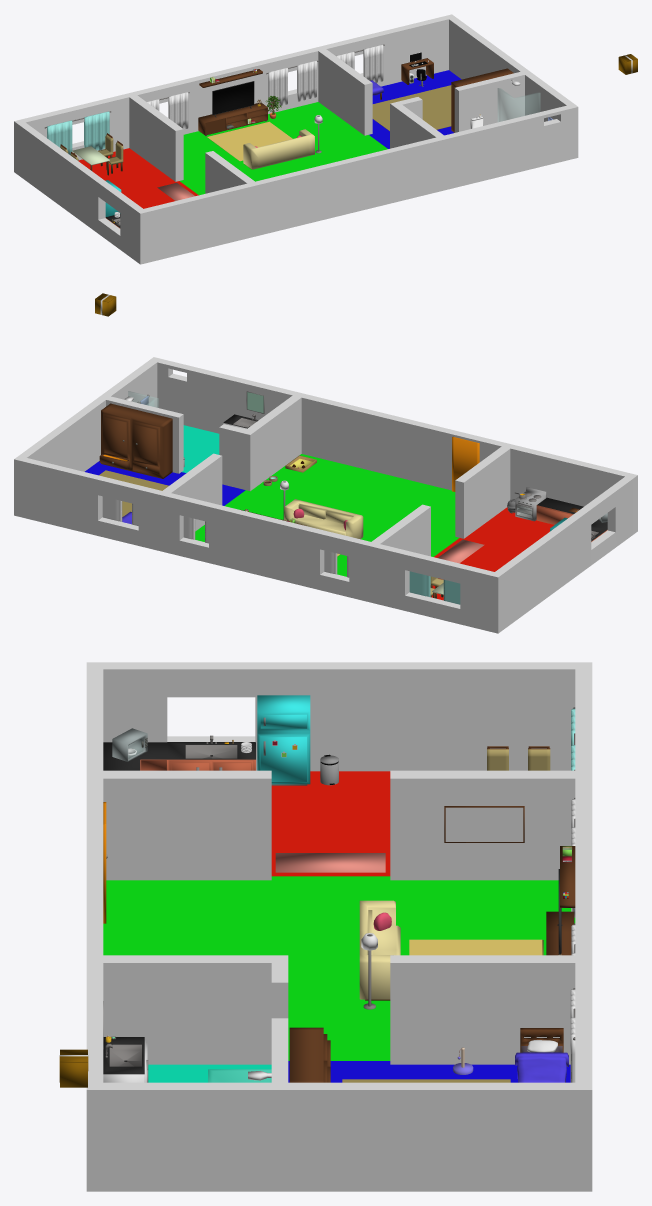
The model's file is House.fbx.
3 renders of one model, top to bottom at view 1: azimuth 30°, elevation 25°; view 2: azimuth 150°, elevation 25°; view 3: azimuth 270°, elevation 25°, orthographic. The views are drawn at different scales.
Visible parts, largest first — view 1: Wall8, Wall10, Ground, Wall7, Wall9, Wall6, Wall1, Wall4, Carpet, Sofa, Carpet TV Room, Curtain (+12 smaller); view 2: Wall10, Wall8, Ground, Wall7, Wall9, Closet, Wall3, Wall5, Wall6, Sofa, Wall1, Wall2 (+8 smaller); view 3: Wall9, Ground, Wall7, Wall5, Wall1, Wall3, Wall6, Wall10, Wall8, Refrigerator, Kitchen Sink, Sofa (+13 smaller).
Part boxes in pixels (left/top/right/bottom): Wall8: left=144, top=105, right=571, bottom=262; Wall10: left=14, top=14, right=455, bottom=174; Ground: left=78, top=70, right=461, bottom=208; Wall7: left=18, top=122, right=147, bottom=264; Wall9: left=449, top=17, right=578, bottom=159; Wall6: left=125, top=94, right=183, bottom=181; Wall1: left=318, top=49, right=372, bottom=135; Wall4: left=454, top=71, right=524, bottom=132; Carpet: left=372, top=85, right=451, bottom=131; Sofa: left=243, top=129, right=314, bottom=169; Carpet TV Room: left=207, top=121, right=292, bottom=161; Curtain: left=44, top=111, right=111, bottom=155; Wall10: left=14, top=456, right=502, bottom=633; Wall8: left=157, top=359, right=629, bottom=506; Ground: left=85, top=425, right=553, bottom=600; Wall7: left=495, top=473, right=637, bottom=629; Wall9: left=19, top=357, right=161, bottom=471; Closet: left=99, top=403, right=172, bottom=478; Wall3: left=241, top=395, right=301, bottom=491; Wall5: left=455, top=444, right=514, bottom=538; Wall6: left=366, top=504, right=430, bottom=603; Sofa: left=284, top=499, right=363, bottom=539; Wall1: left=163, top=453, right=222, bottom=531; Wall2: left=219, top=424, right=247, bottom=488; Wall9: left=86, top=1082, right=575, bottom=1191; Ground: left=103, top=771, right=575, bottom=1082; Wall7: left=86, top=662, right=575, bottom=771; Wall5: left=87, top=770, right=271, bottom=880; Wall1: left=390, top=955, right=575, bottom=1064; Wall3: left=103, top=955, right=288, bottom=1064; Wall6: left=390, top=770, right=592, bottom=880; Wall10: left=575, top=662, right=592, bottom=1191; Wall8: left=86, top=669, right=103, bottom=1082; Refrigerator: left=257, top=695, right=310, bottom=785; Kitchen Sink: left=103, top=735, right=255, bottom=770; Sofa: left=359, top=900, right=400, bottom=1000.
Size of the model in its own units: 3497 by 623 by 1643.
